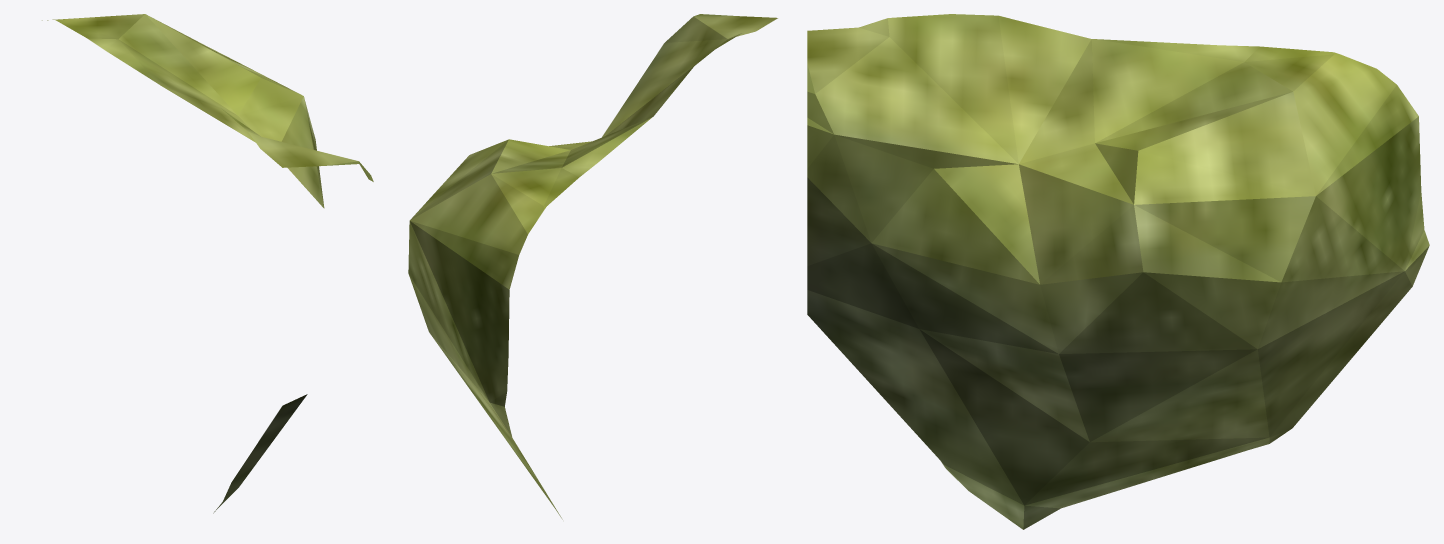
3 views of the same model, side by side, from view 1: azimuth 30°, elevation 25°; view 2: azimuth 150°, elevation 25°; view 3: azimuth 270°, elevation 25° (orthographic). The views are drawn at different scales.
Bounding box in the file's own units: 0.2226 × 0.5315 × 0.5812.
1 material, 1 textured.
